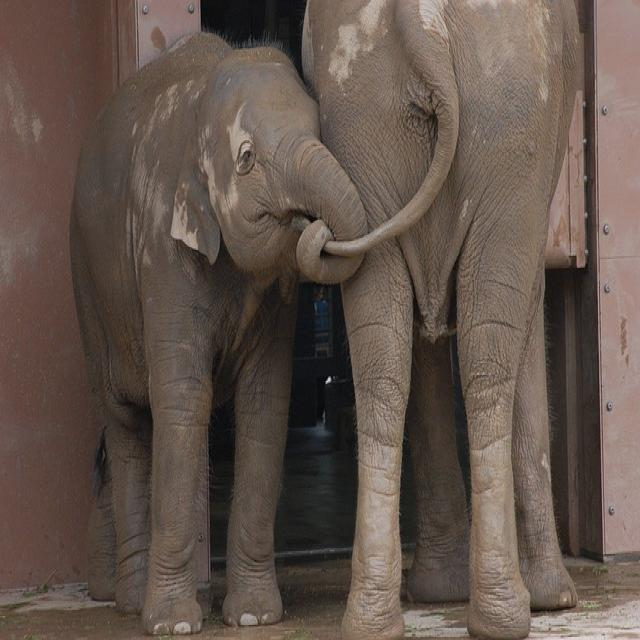FIL: (63, 31, 370, 634)
